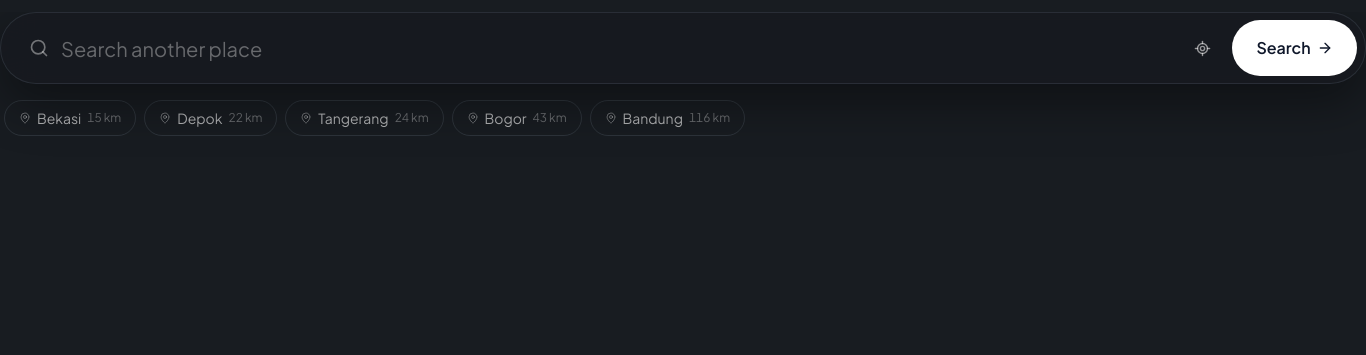
Test: typing filters instantly and arrow + enter picks by coordinates
The width and height of the screenshot is (1366, 355).
Type "sura" into the dropdown at (615,48), box x1=57 y1=13 x2=1172 y2=83
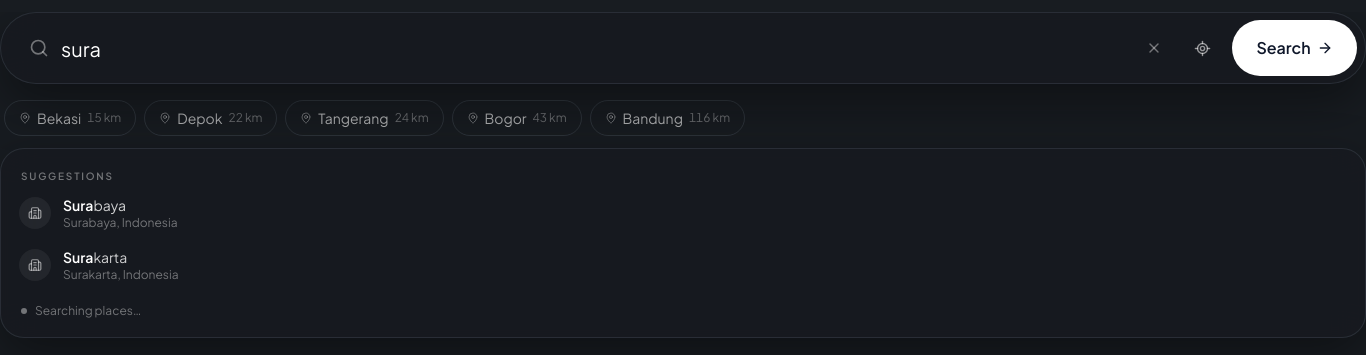
Check: the option "Surabaya Surabaya, Indonesia" is shown, box x1=19 y1=196 x2=178 y2=230
Press ArrowDown in the dropdown, box x1=57 y1=13 x2=1128 y2=83
Press Enter in the dropdown, box x1=57 y1=13 x2=1128 y2=83
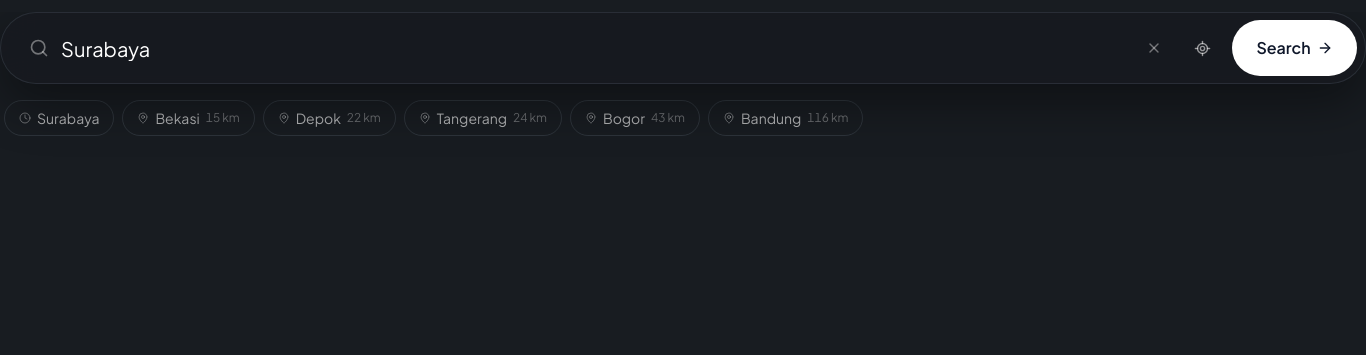
Check: the dropdown holds "Surabaya", box x1=57 y1=13 x2=1128 y2=83
Check: the list is gone
